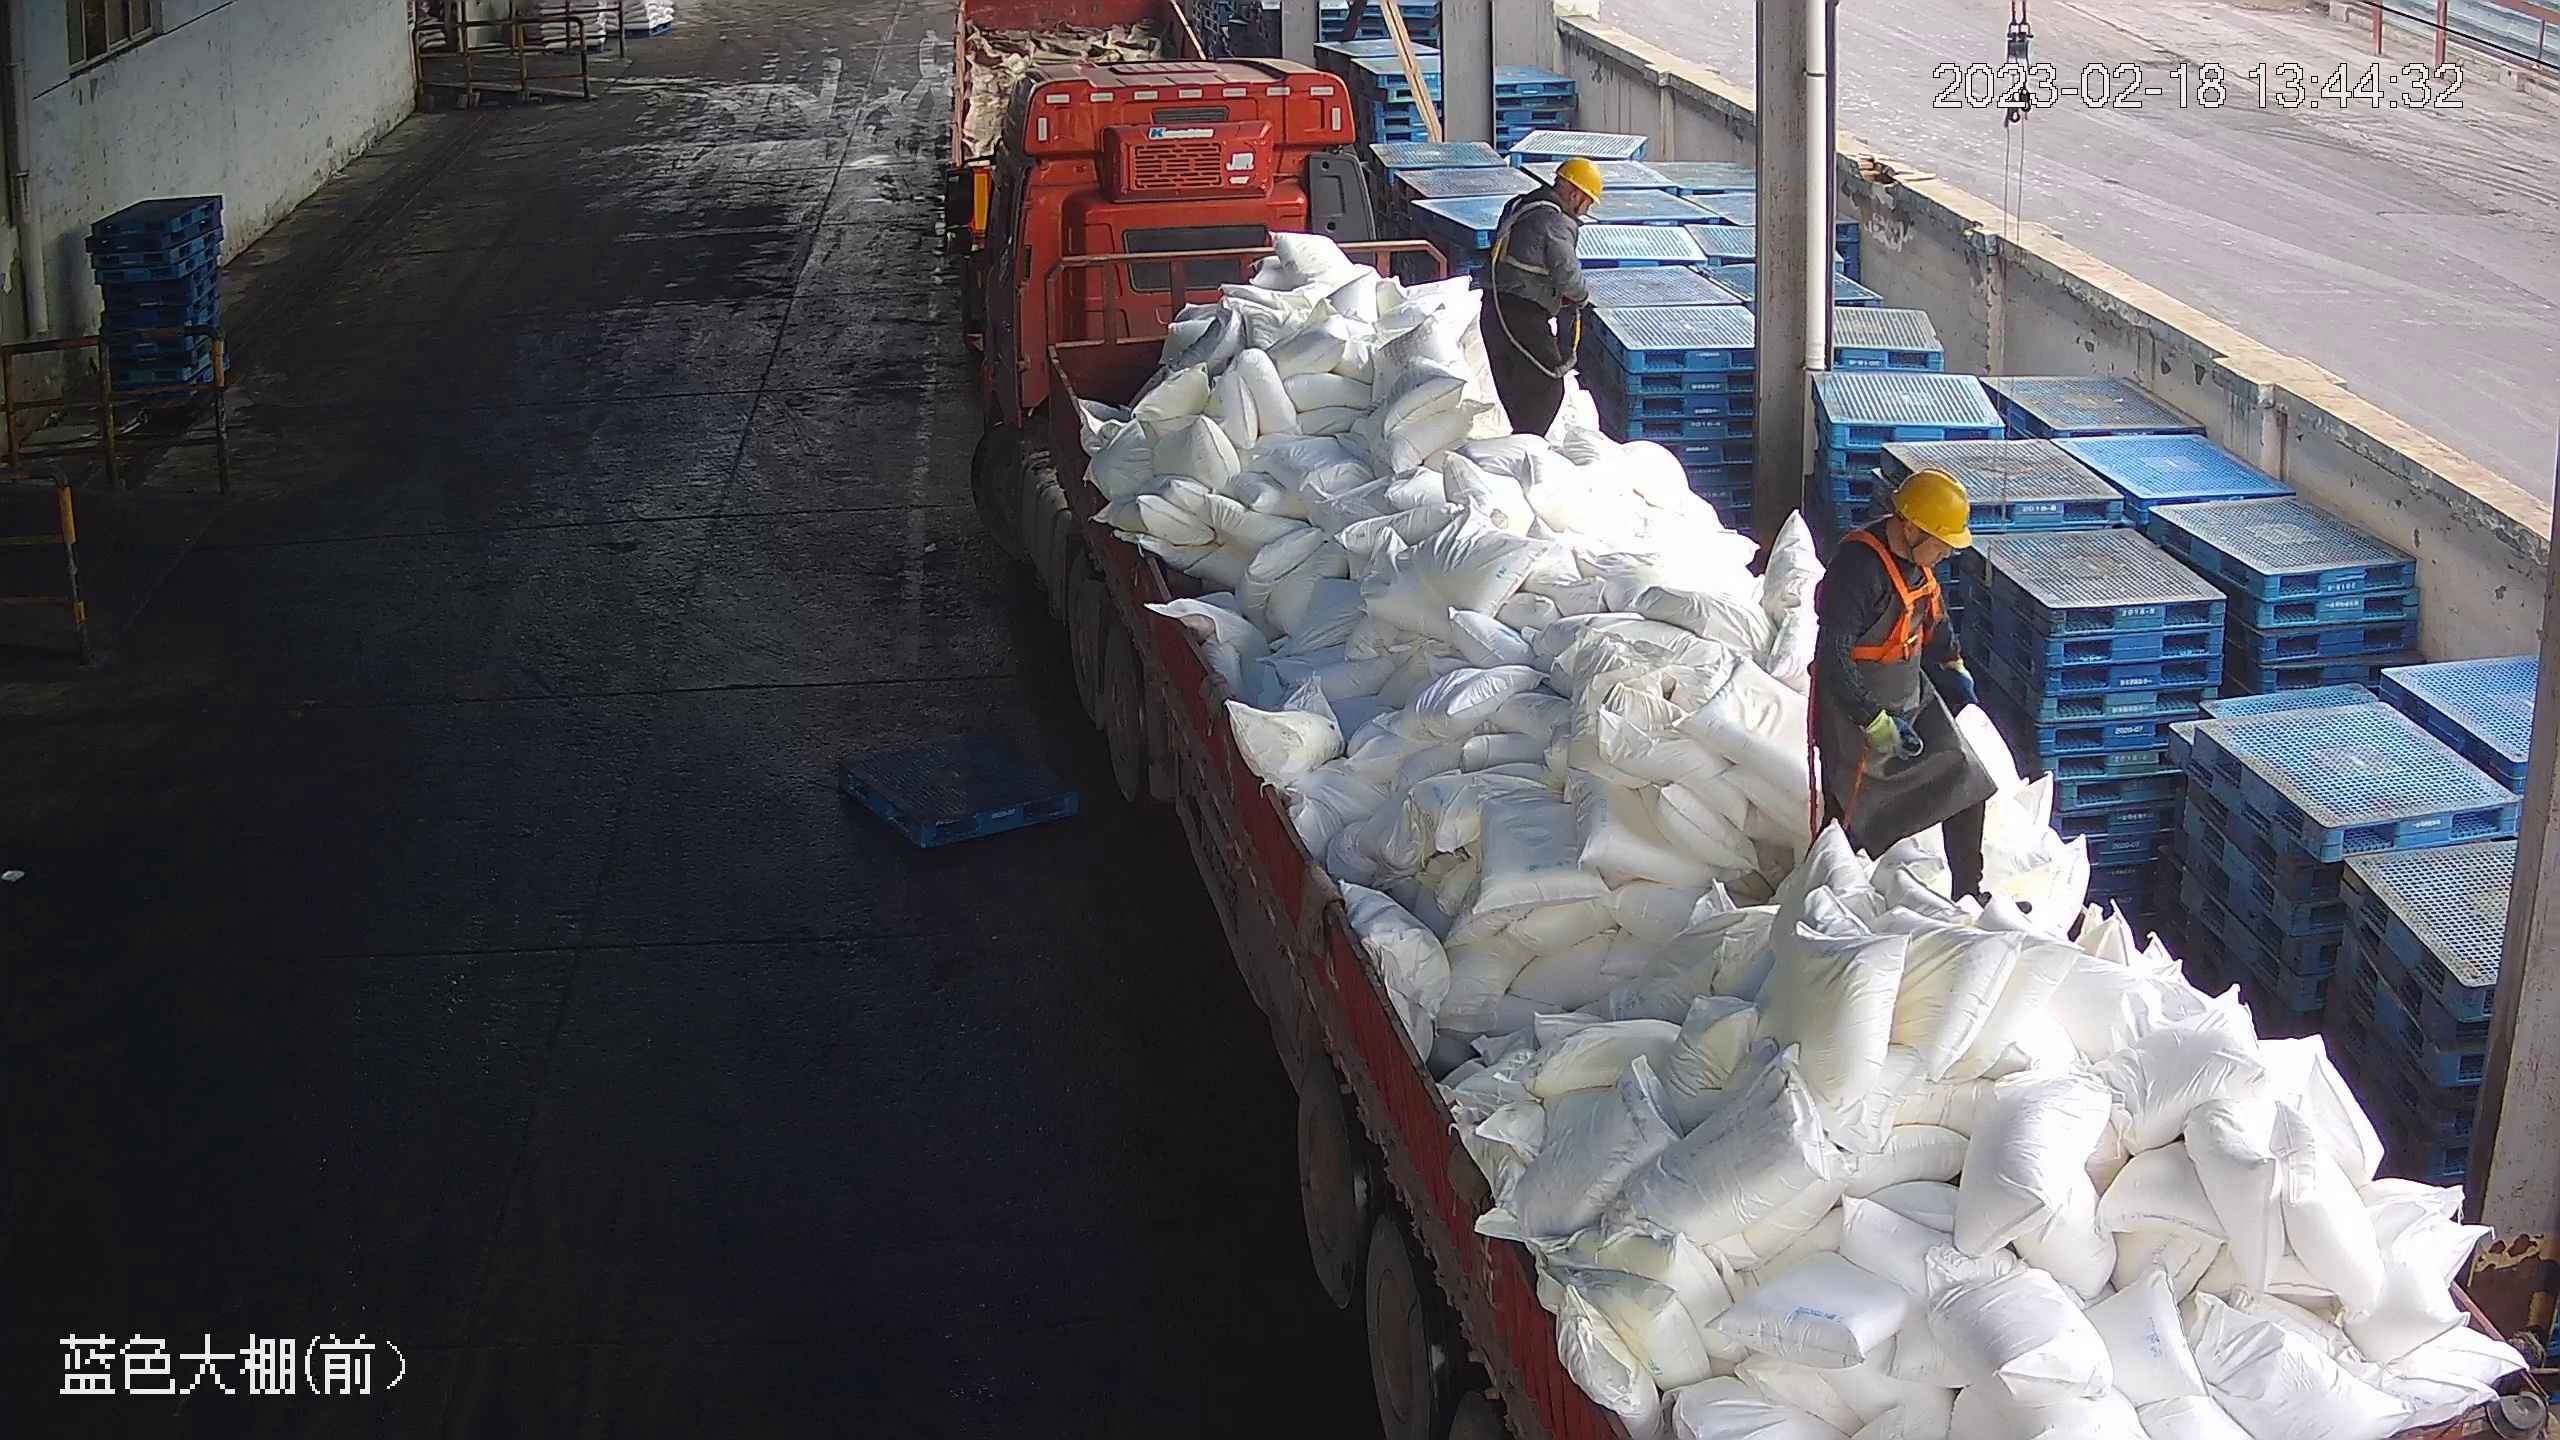belt: (1838, 529, 1960, 666), (1486, 197, 1564, 272)
helmet: (1893, 467, 1979, 548), (1557, 158, 1599, 203)
people: (1808, 467, 2037, 914), (1478, 153, 1601, 442), (1817, 467, 1984, 634), (1505, 154, 1600, 271)
truck: (940, 54, 2560, 1440)
